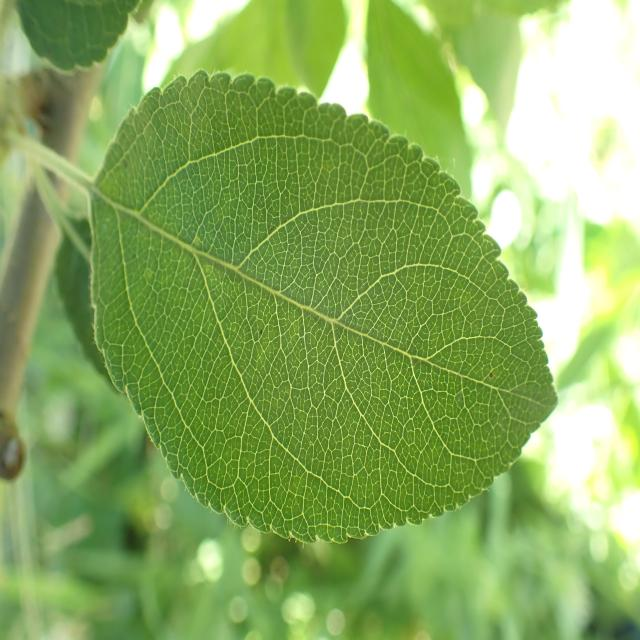healthy: (89, 69, 560, 546), (15, 0, 144, 75)
